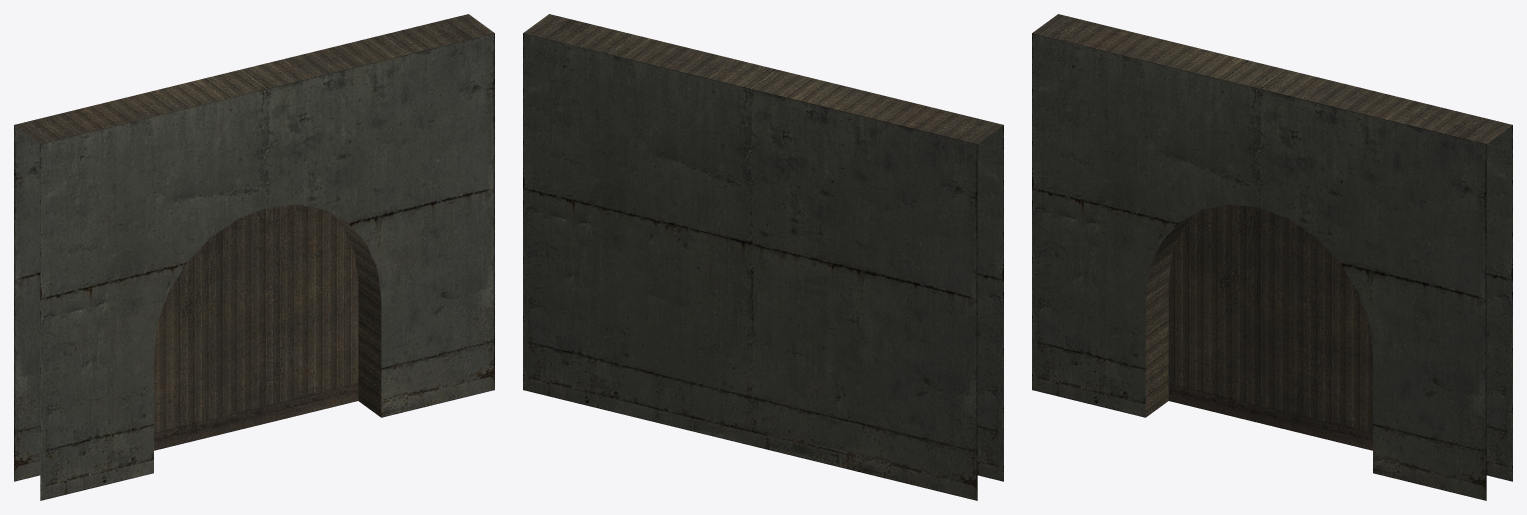
Rendered from wall_rg_15.obj.
3 views of the same model, side by side, from view 1: azimuth 30°, elevation 25°; view 2: azimuth 150°, elevation 25°; view 3: azimuth 330°, elevation 25° (orthographic).
Visible parts, largest first — view 1: wall_rg_15; view 2: wall_rg_15; view 3: wall_rg_15.
Part boxes in pixels (x1=…): wall_rg_15: x1=14, y1=14, x2=494, y2=500; wall_rg_15: x1=523, y1=14, x2=1003, y2=500; wall_rg_15: x1=1032, y1=14, x2=1512, y2=500.
Bounding box in the file's own units: 4 × 3 × 0.4.
